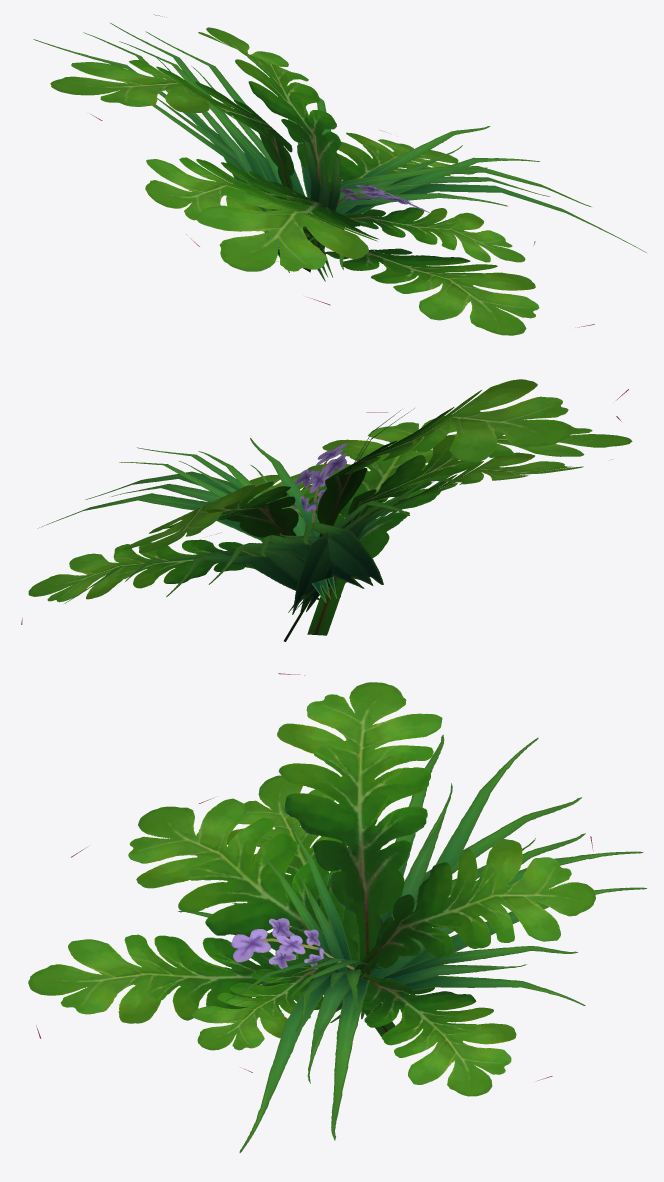
File: map_xuanren_shu_6.fbx
3 views of the same model, one above another, from view 1: azimuth 30°, elevation 25°; view 2: azimuth 150°, elevation 25°; view 3: azimuth 270°, elevation 25° (orthographic). The views are drawn at different scales.
Visible parts, largest first — view 1: polySurface320; view 2: polySurface320; view 3: polySurface320.
Boxes of the visible parts, x1,y1,x2,y2 form: polySurface320: [33, 14, 646, 335]; polySurface320: [21, 379, 632, 641]; polySurface320: [28, 673, 646, 1152].
Size of the model in its own units: 0.3423 by 0.1725 by 0.3621.
